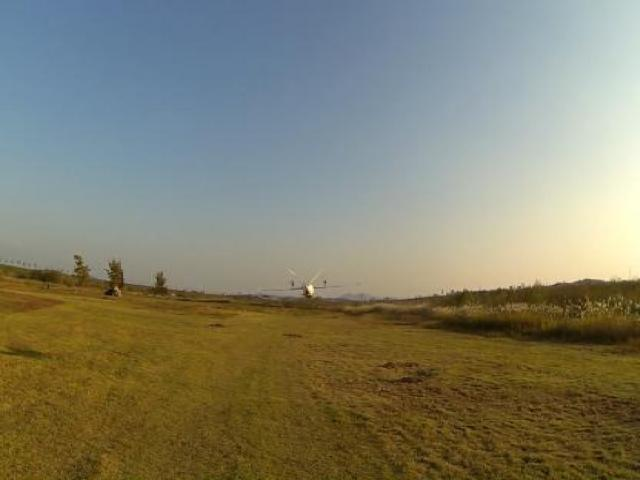uav: (254, 256, 364, 313)
